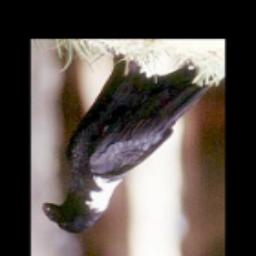Crow: (40, 49, 218, 241)
